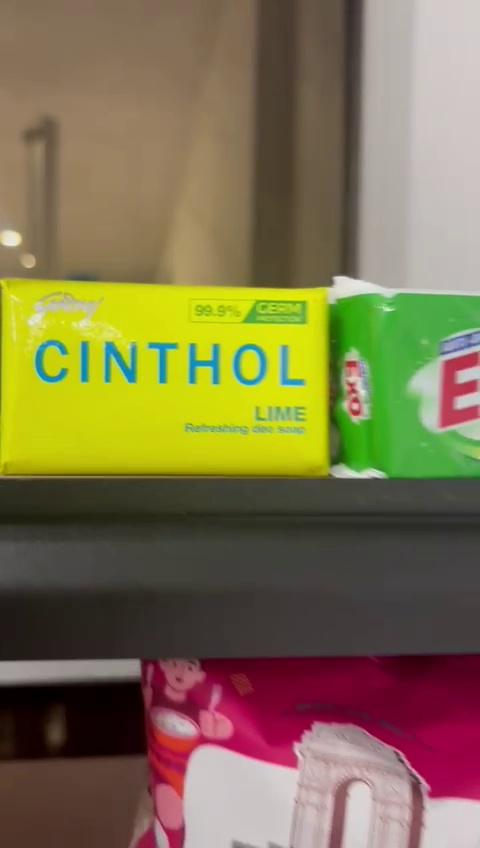Cinthol: (0, 276, 331, 478)
